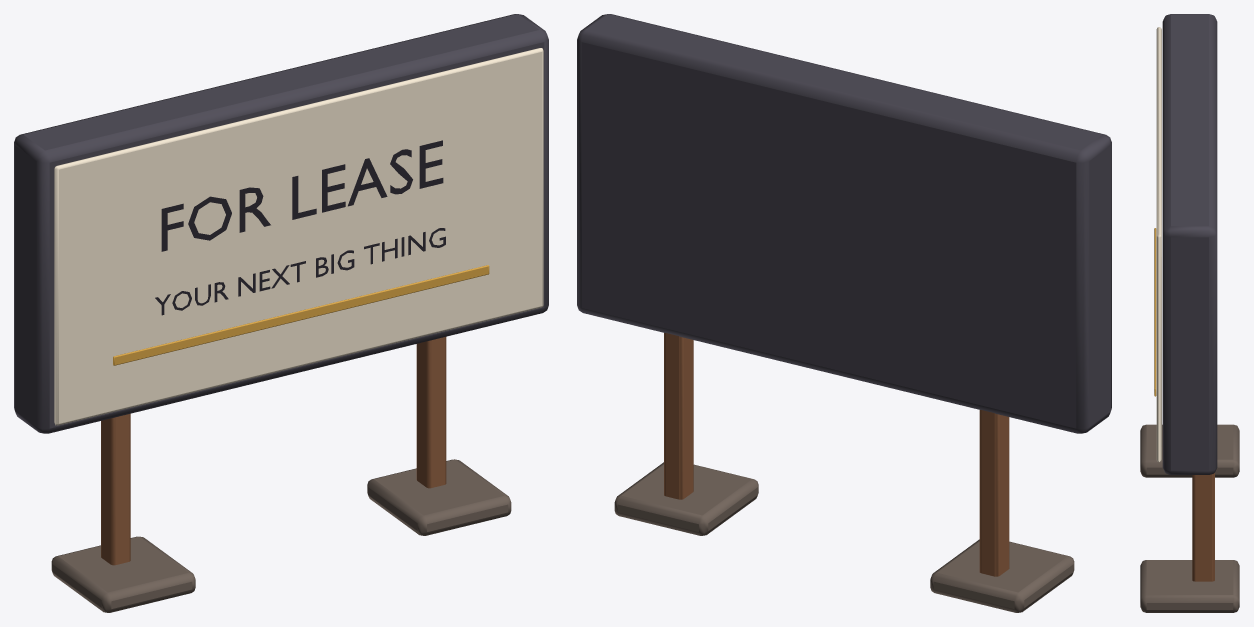
Rendered from era_lease_billboard.glb.
The picture shows the model from 3 angles, left to right: view 1: azimuth 30°, elevation 25°; view 2: azimuth 150°, elevation 25°; view 3: azimuth 270°, elevation 25°; orthographic projection. The views are drawn at different scales.
Visible parts, largest first — view 1: era_lease_billboard; view 2: era_lease_billboard; view 3: era_lease_billboard.
Boxes of the visible parts, left/top/right/bottom form: era_lease_billboard: left=14, top=14, right=548, bottom=612; era_lease_billboard: left=577, top=14, right=1111, bottom=612; era_lease_billboard: left=1140, top=14, right=1239, bottom=612.
Bounding box in the file's own units: 3.4 × 2.95 × 0.65.
